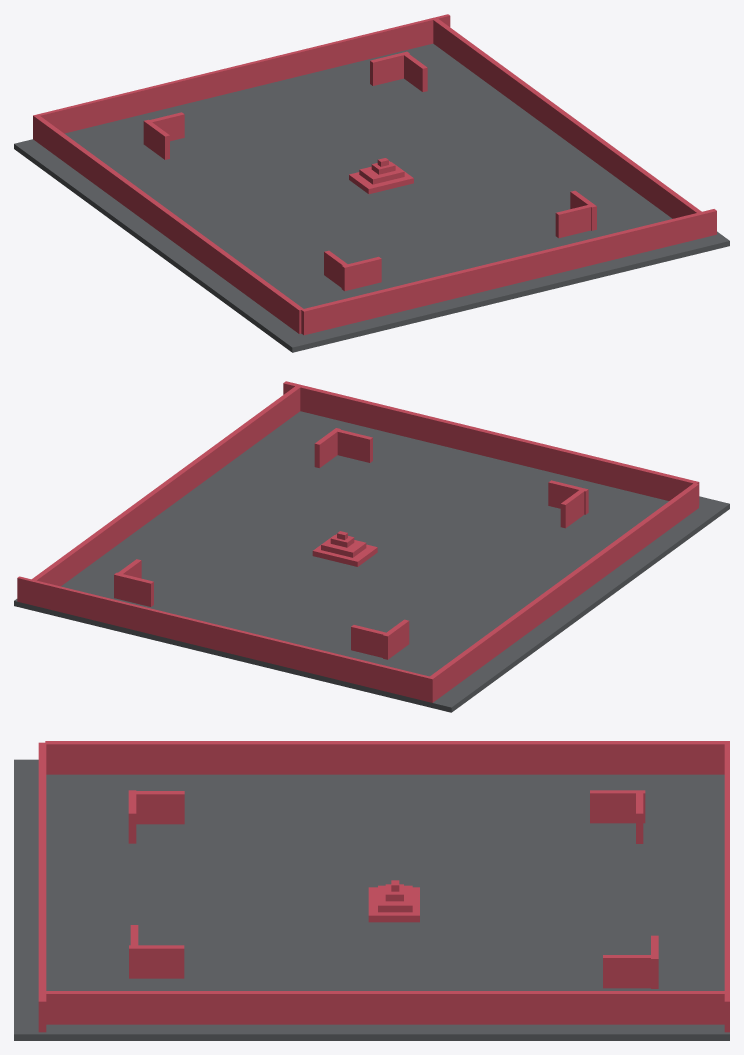
The picture shows the model from 3 angles, top to bottom: view 1: azimuth 30°, elevation 25°; view 2: azimuth 150°, elevation 25°; view 3: azimuth 270°, elevation 25°; orthographic projection. The views are drawn at different scales.
Visible parts, largest first — view 1: Mesh_Mesh_head_geo.001_lambert2SG.001; view 2: Mesh_Mesh_head_geo.001_lambert2SG.001; view 3: Mesh_Mesh_head_geo.001_lambert2SG.001.
Part boxes in pixels (<box>): Mesh_Mesh_head_geo.001_lambert2SG.001: <box>14,14,729,352</box>; Mesh_Mesh_head_geo.001_lambert2SG.001: <box>14,381,729,712</box>; Mesh_Mesh_head_geo.001_lambert2SG.001: <box>14,741,729,1040</box>.
Bounding box in the file's own units: 1.76 × 0.111 × 1.94.
